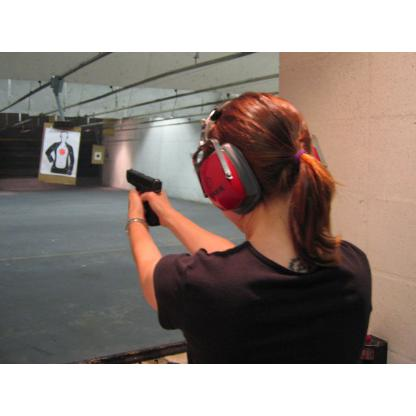gun: (124, 167, 164, 231)
